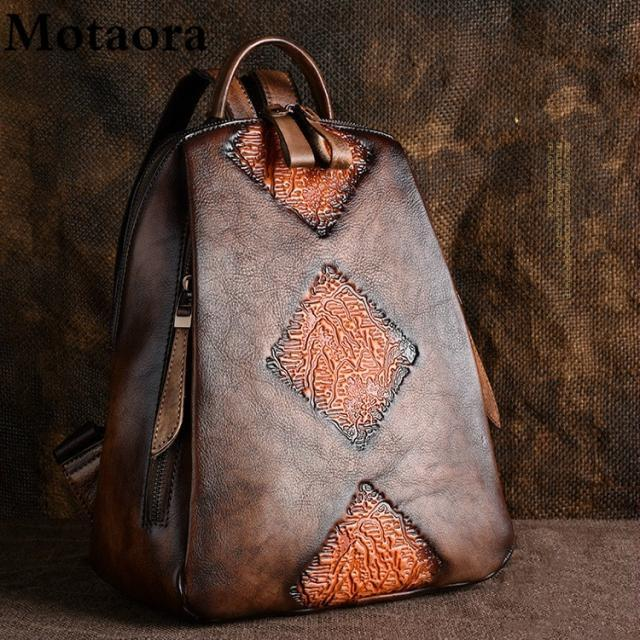Backpacks: (96, 106, 518, 620)
